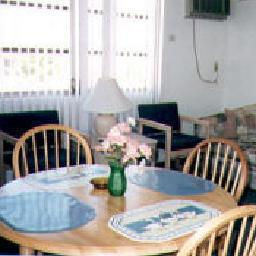Escaleras: (4, 112, 92, 164), (10, 120, 96, 173), (174, 200, 253, 255), (147, 100, 206, 167), (180, 136, 248, 186)
Ventana: (2, 2, 82, 96), (81, 3, 153, 94)
